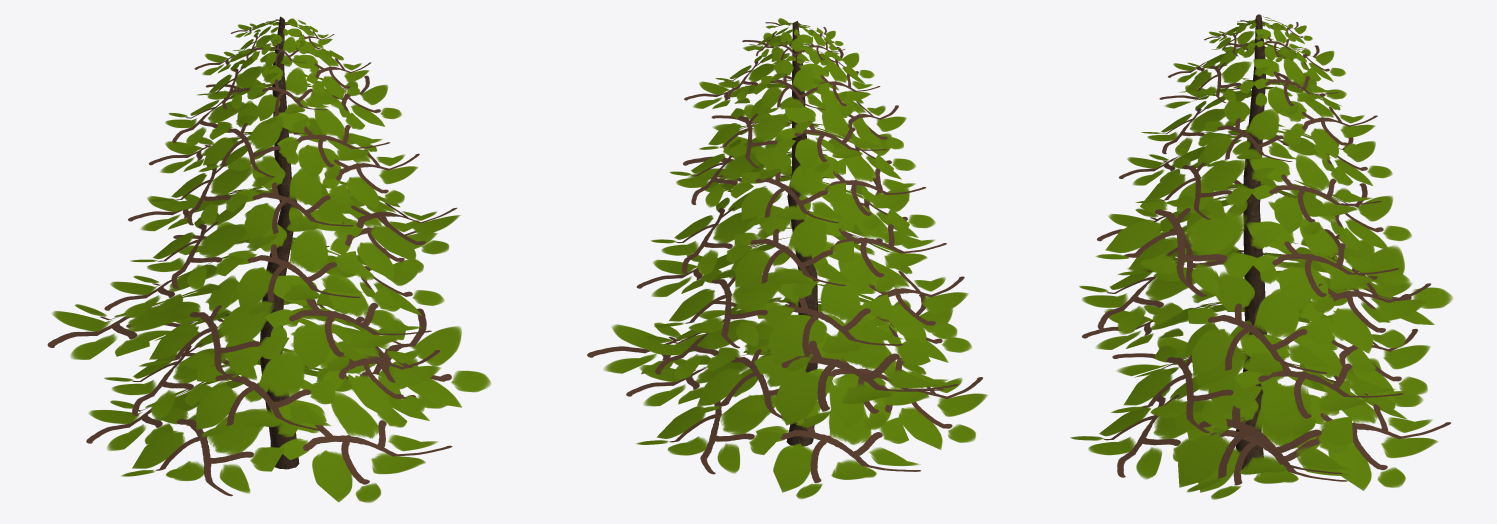
3 renders of one model, left to right at view 1: azimuth 30°, elevation 25°; view 2: azimuth 150°, elevation 25°; view 3: azimuth 270°, elevation 25°, orthographic. The views are drawn at different scales.
Parts seen in each view (by area): view 1: Pine_1; view 2: Pine_1; view 3: Pine_1.
Boxes of the visible parts, box(x1,y1,x2,y2) form: Pine_1: box(47, 16, 491, 502); Pine_1: box(587, 18, 987, 499); Pine_1: box(1070, 14, 1452, 499).
Bounding box in the file's own units: 7.73 × 7.58 × 6.76.
2 materials, 2 textured.
